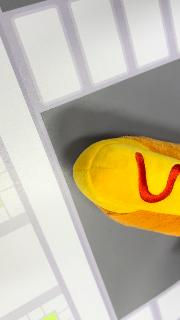hotdog: (72, 135, 180, 237)
